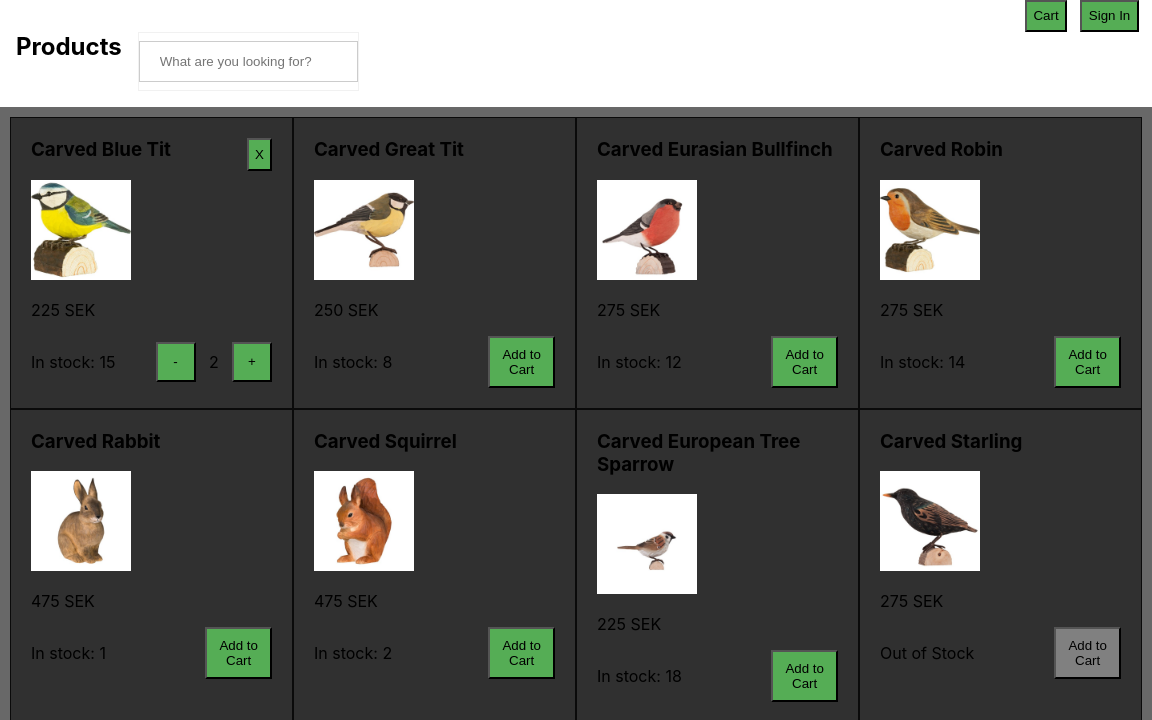
ProductList component › removes product from cart
Click the button "Cart".
click(1046, 16)  # box [1025,0,1067,32]
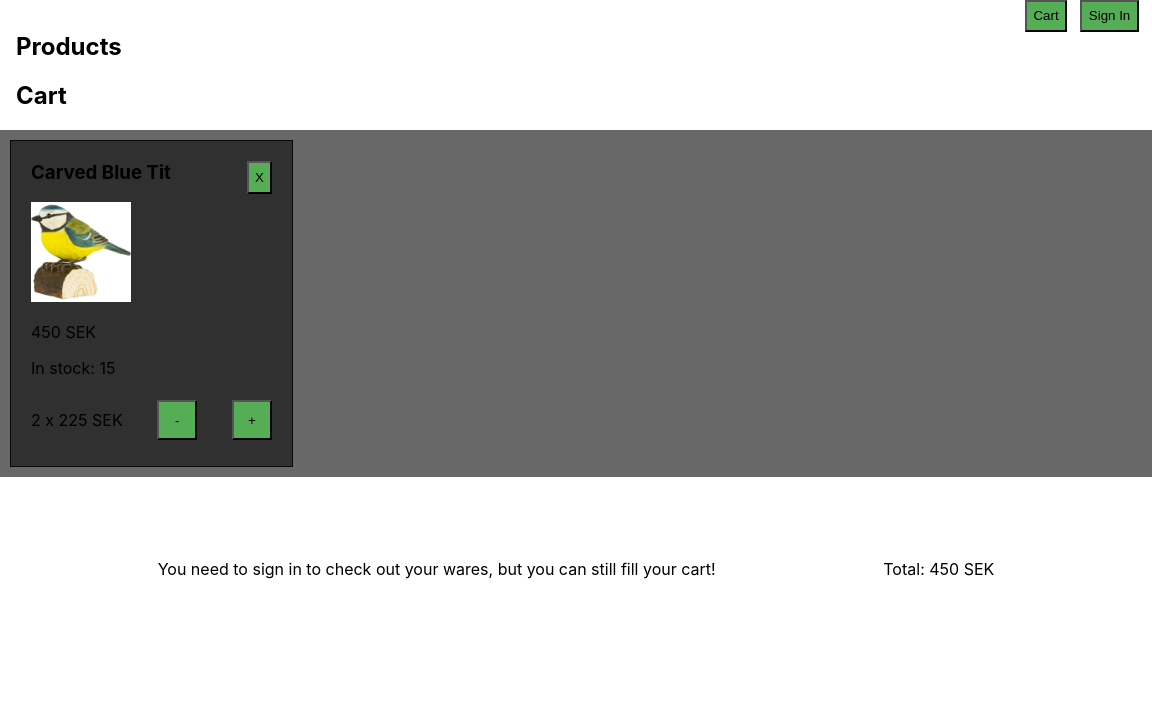
Click the button "X".
click(260, 177)  # box [247,161,272,194]
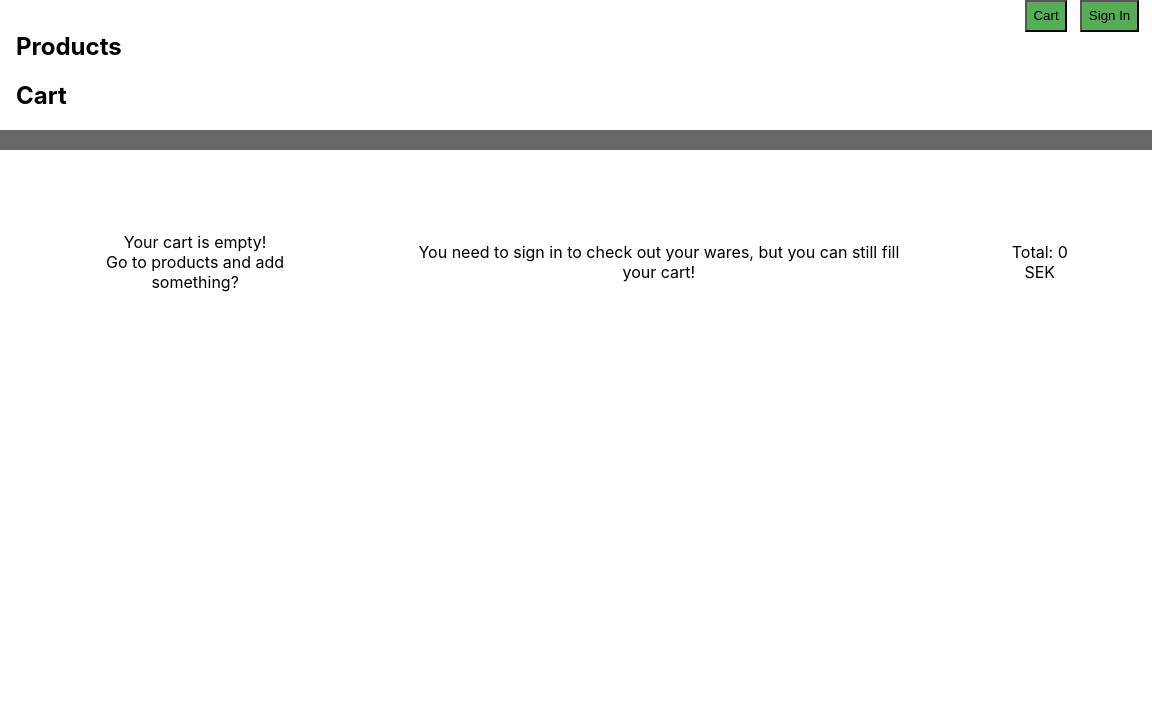
expect no list items are shown: met
